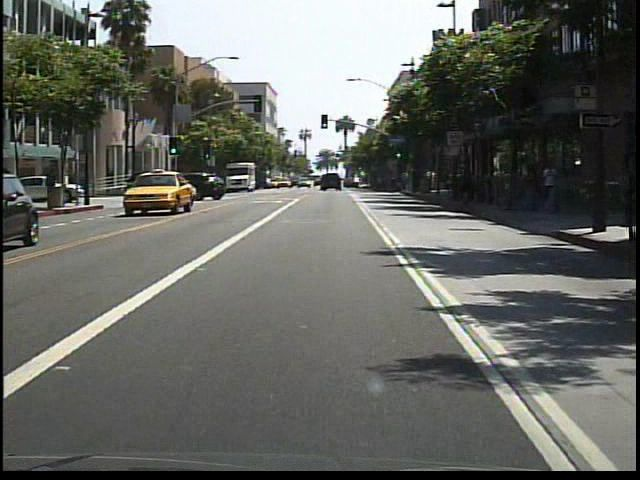person: (537, 158, 560, 221)
